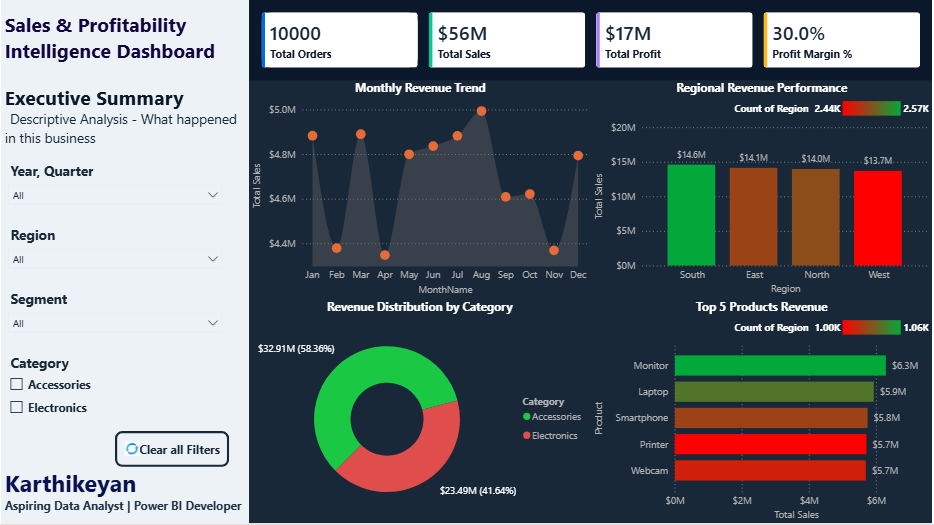

This screenshot's page, from the dashboard's own definition file:
{"tool":"powerbi","page":{"name":"Executive Summary","canvas":[1280,720],"ordinal":1},"visuals":[{"type":"shape","box":[0,0,340.6,720],"z":0,"group":"g1"},{"type":"shape","box":[340.6,110.5,939.6,609.5],"z":1000,"group":"g1"},{"type":"shape","box":[340.6,0,939.6,110.5],"z":2000,"group":"g1"},{"type":"cardVisual","fields":{"Data":["SalesData.Total Orders","SalesData.Total Sales","SalesData.Total Profit","SalesData.Avg Margin"]},"box":[340.6,0,939.6,110.5],"z":3000,"group":"g1"},{"type":"textbox","box":[0,110.5,340.6,109],"z":4000,"group":"g1"},{"type":"textbox","box":[0,9,340.6,91.1],"z":5000,"group":"g1"},{"type":"lineChart","title":"Monthly Revenue Trend","fields":{"Y":["SalesData.Total Sales"],"Category":["Calendar.MonthName"]},"box":[340.6,110.5,470.5,300.2],"z":6000,"group":"g1"},{"type":"donutChart","title":"Revenue Distribution by Category","fields":{"Category":["SalesData.Category"],"Y":["SalesData.Total Sales"]},"box":[339.1,410.8,472,309.2],"z":7000,"group":"g1"},{"type":"barChart","title":"Top 5 Products Revenue","fields":{"Category":["SalesData.Product"],"Y":["SalesData.Total Sales"]},"box":[811.1,410.8,469,309.2],"z":8000,"group":"g1"},{"type":"slicer","fields":{"Values":["Calendar.Year","Calendar.Quarter"]},"box":[0,216.6,313.7,88.1],"z":9000,"group":"g1"},{"type":"slicer","fields":{"Values":["SalesData.Region"]},"box":[0,304.7,313.7,88.1],"z":10000,"group":"g1"},{"type":"slicer","fields":{"Values":["SalesData.Category"]},"box":[0,481,313.7,110.5],"z":11000,"group":"g1"},{"type":"slicer","fields":{"Values":["SalesData.Segment"]},"box":[0,392.9,313.7,88.1],"z":12000,"group":"g1"},{"type":"textbox","box":[0,636.3,339.1,83.7],"z":13000,"group":"g1"},{"type":"actionButton","box":[156.8,591.5,156.8,49.3],"z":14000,"group":"g1"},{"type":"clusteredColumnChart","title":"Regional Revenue Performance","fields":{"Category":["SalesData.Region"],"Y":["SalesData.Total Sales"]},"box":[811.1,110.5,469,300.2],"z":15000,"group":"g1"},{"type":"group","id":"g1","title":"Group 1","box":[0,0,1280.2,720],"z":15001}]}

Visuals, with their boxes in screenshot pixels (x1, y1, x2, y2), scaled from the page's 1280x720 canvas onto the 934x525 screenshot:
shape: 0:0:249:524
shape: 249:81:933:524
shape: 249:0:933:81
cardVisual - SalesData.Total Orders x SalesData.Total Sales: 249:0:933:81
textbox: 0:81:249:160
textbox: 0:7:249:73
"Monthly Revenue Trend" lineChart: 249:81:592:299
"Revenue Distribution by Category" donutChart: 247:300:592:524
"Top 5 Products Revenue" barChart: 592:300:933:524
slicer - Calendar.Year x Calendar.Quarter: 0:158:229:222
slicer - SalesData.Region: 0:222:229:286
slicer - SalesData.Category: 0:351:229:431
slicer - SalesData.Segment: 0:286:229:351
textbox: 0:464:247:524
actionButton: 114:431:229:467
"Regional Revenue Performance" clusteredColumnChart: 592:81:933:299
"Group 1" group: 0:0:933:524
